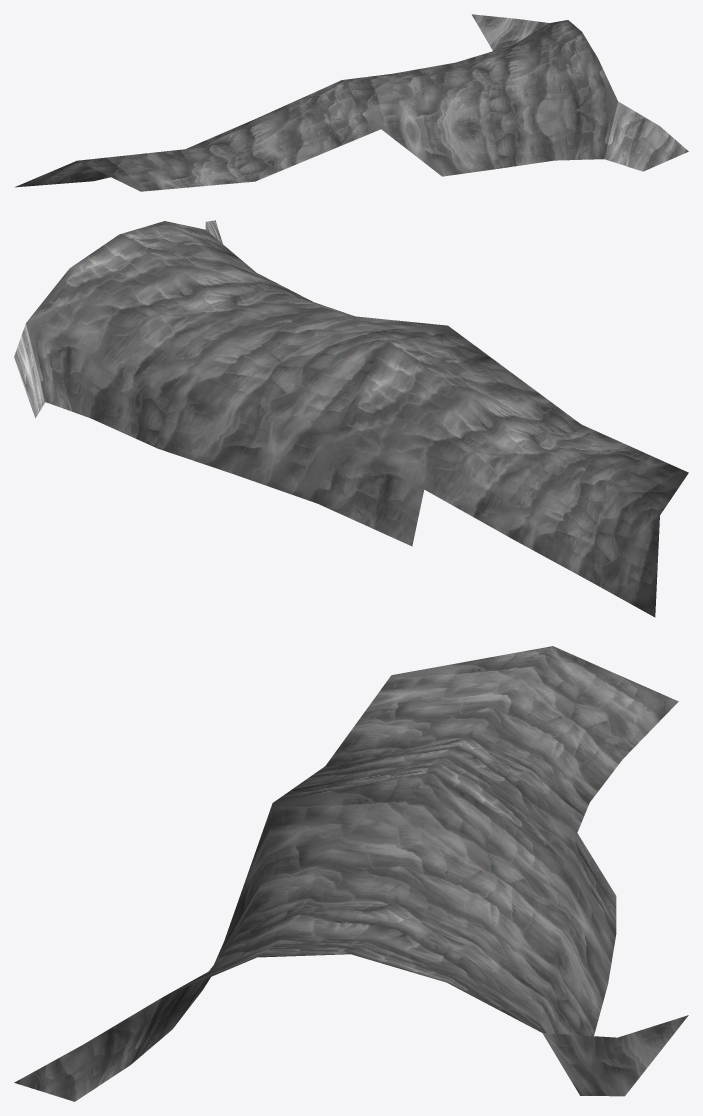
Rendered from SWORDLIGHT20_PS-AREA03_42.obj.
3 renders of one model, top to bottom at view 1: azimuth 30°, elevation 25°; view 2: azimuth 150°, elevation 25°; view 3: azimuth 270°, elevation 25°, orthographic. The views are drawn at different scales.
Parts seen in each view (by area): view 1: PS-Area03_42; view 2: PS-Area03_42; view 3: PS-Area03_42.
Part boxes in pixels (x1,y1,x2,y2): PS-Area03_42: (15, 14, 688, 191); PS-Area03_42: (14, 220, 688, 617); PS-Area03_42: (14, 646, 688, 1101).
Bounding box in the file's own units: 2586 × 538 × 1598.
